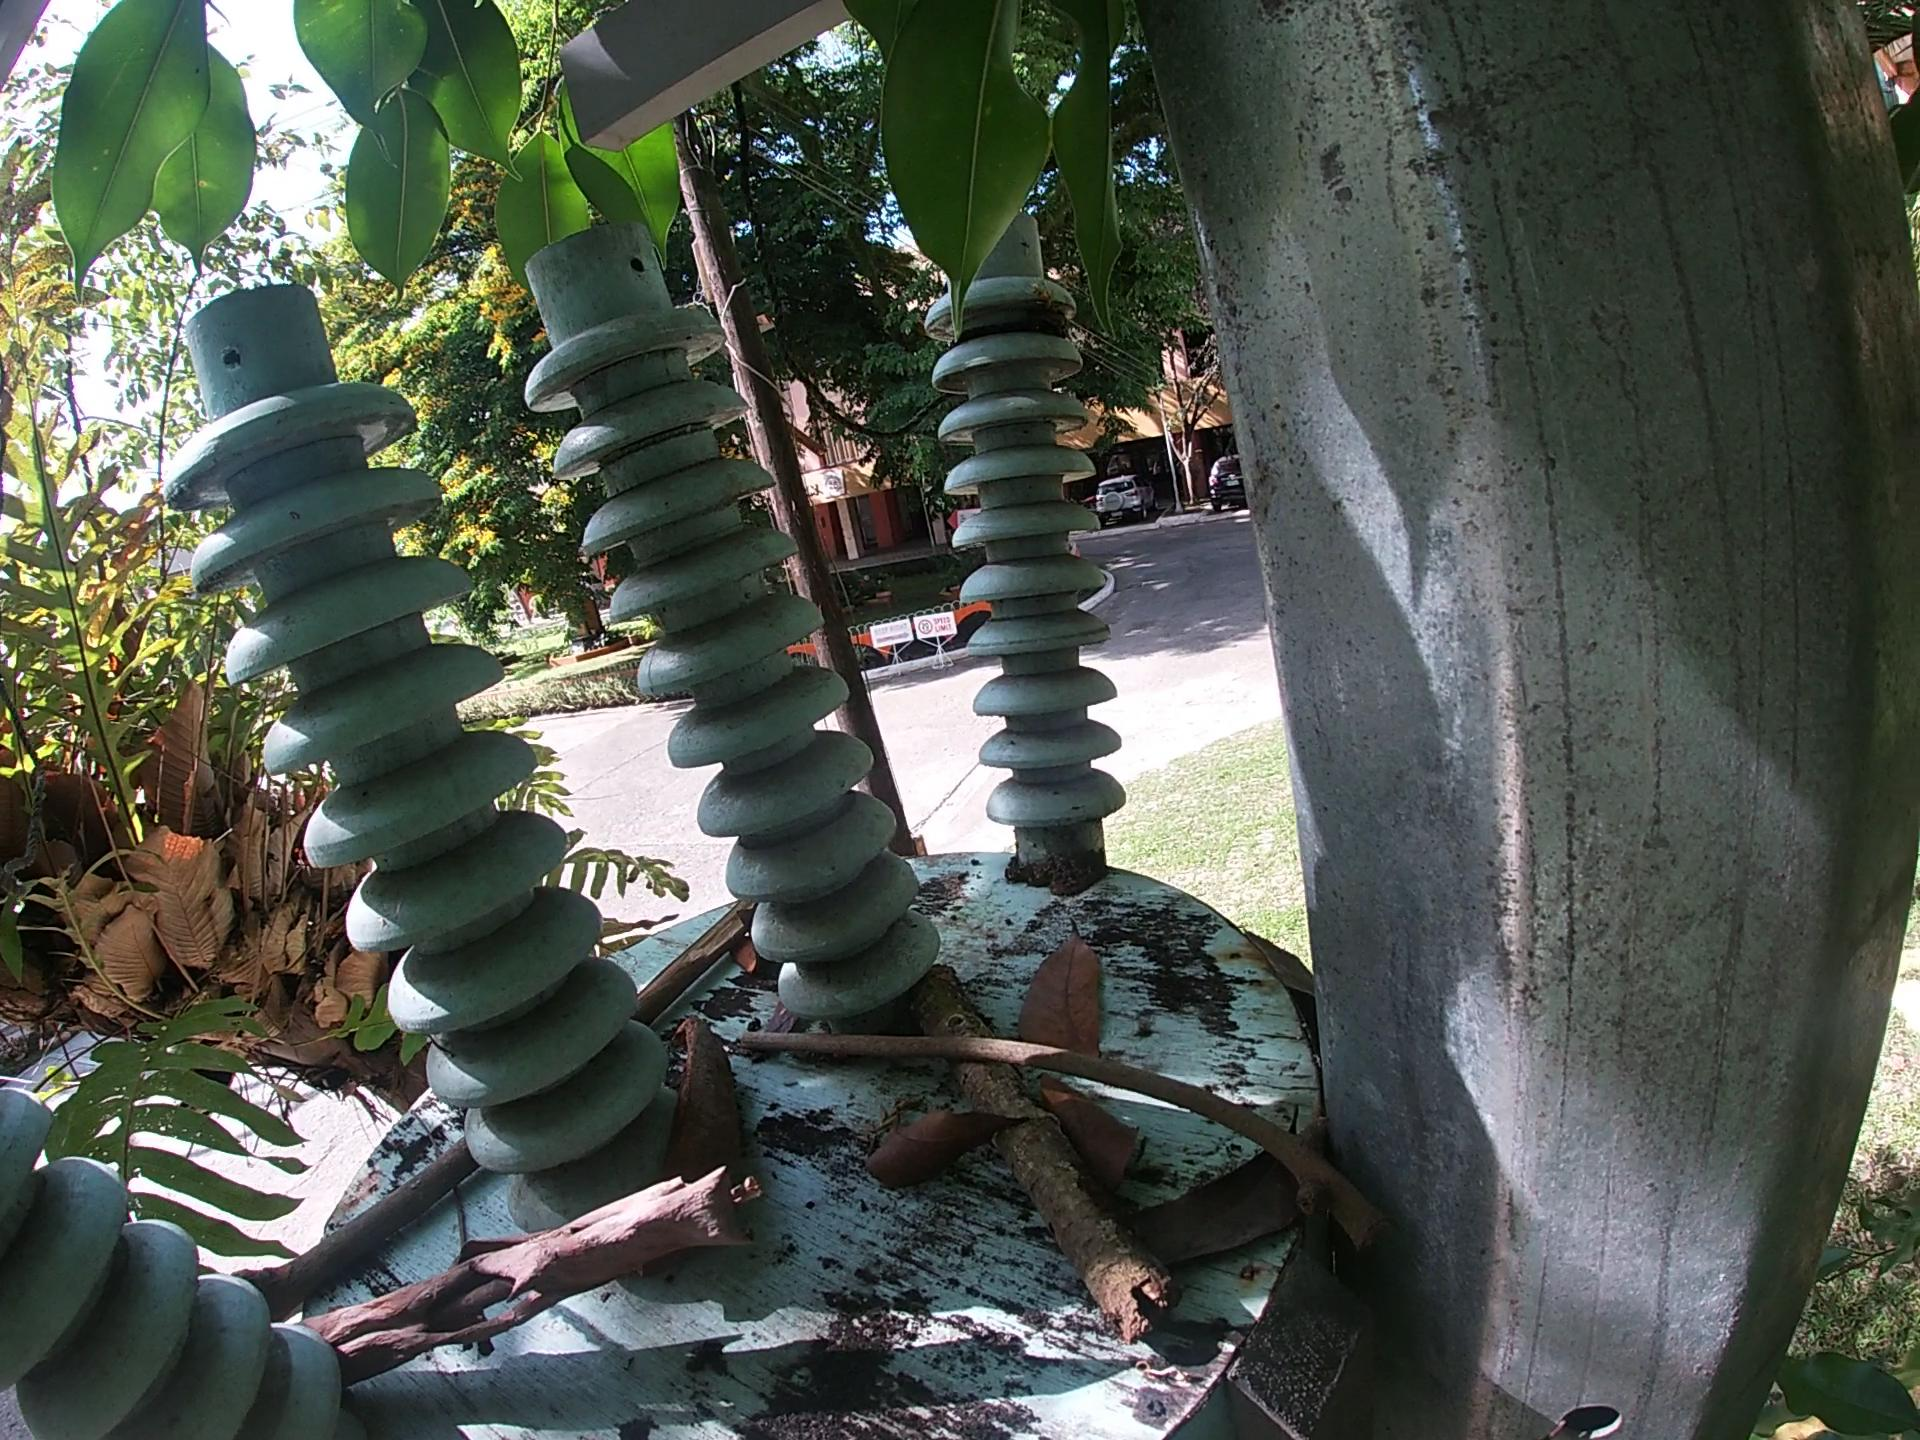leaf: (1120, 1106, 1309, 1272), (851, 1107, 1034, 1199), (1011, 914, 1110, 1060), (1037, 1072, 1144, 1201)
mahogany fruit: (655, 1018, 754, 1187), (729, 905, 777, 985)
tree branch: (736, 1021, 1398, 1262), (290, 1159, 776, 1387), (906, 961, 1175, 1352), (228, 1137, 485, 1327), (629, 898, 765, 1033)
